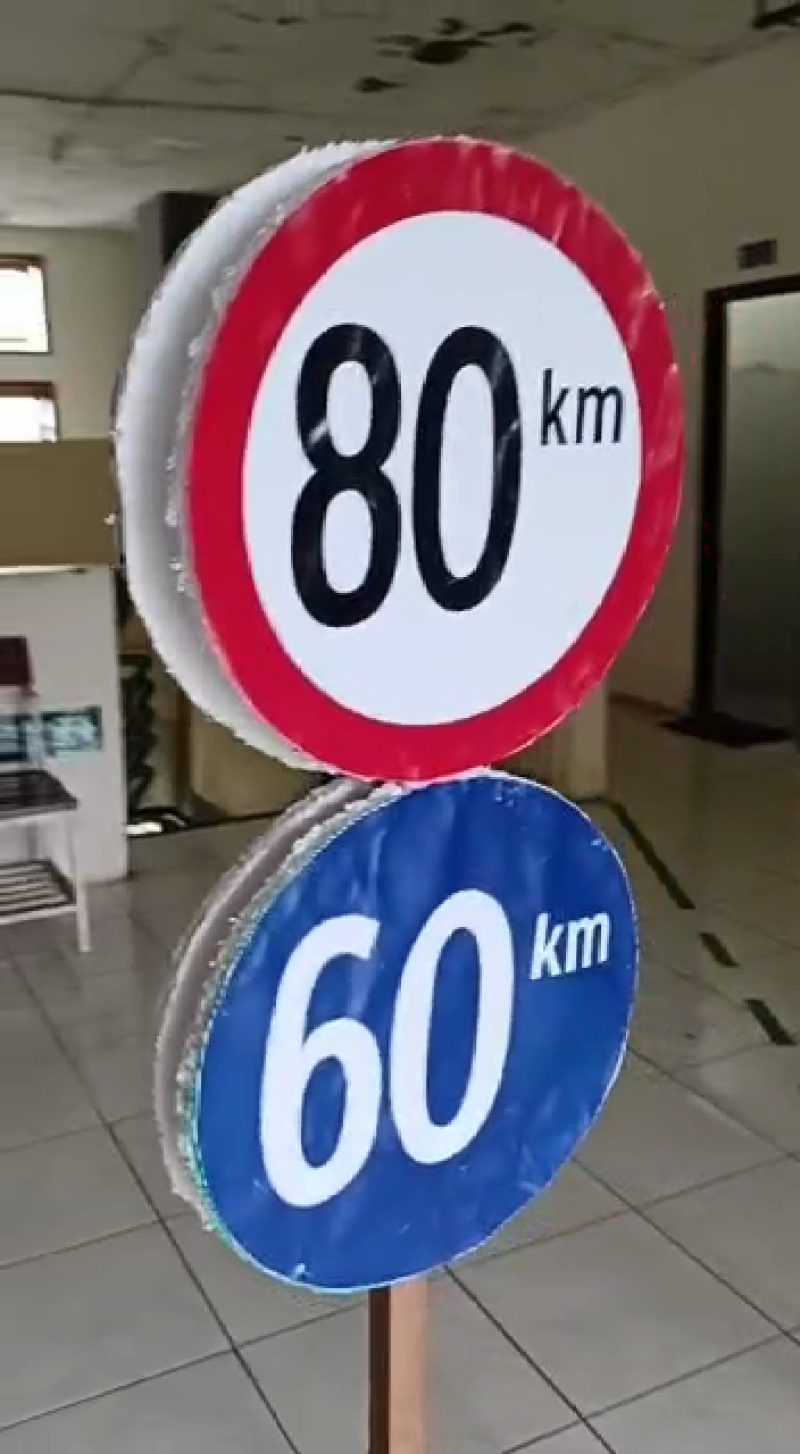batas maksimal 80kmperjam minimal 60kmperjam: (171, 124, 701, 1299)
